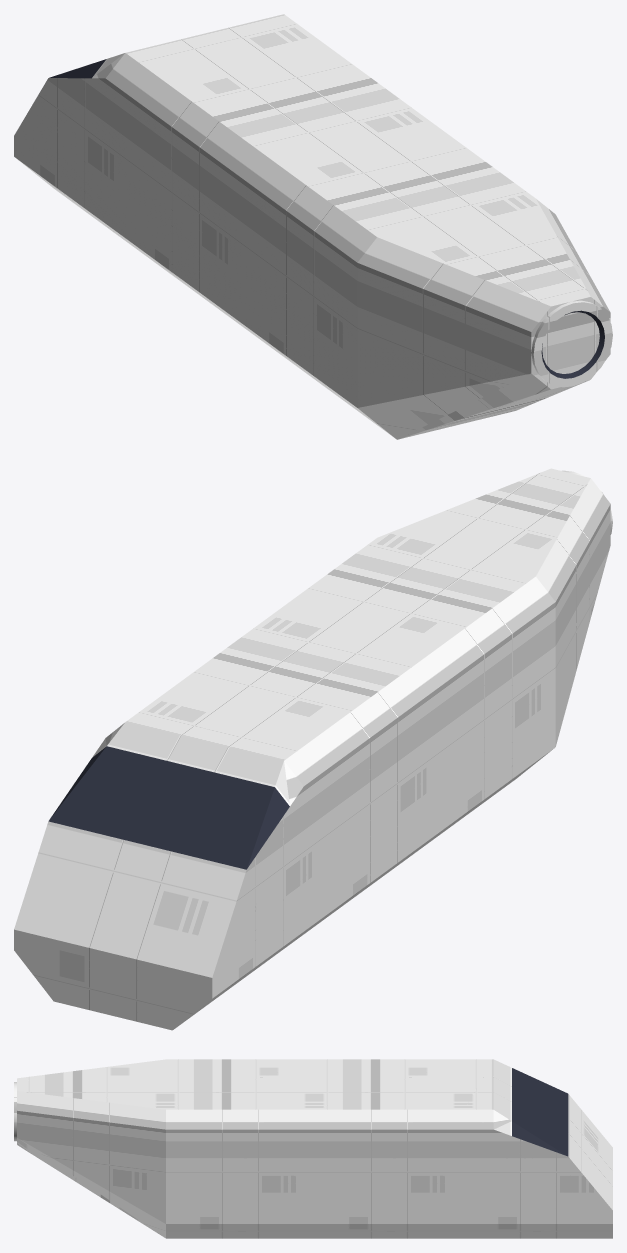
File: submarine.glb
3 views of the same model, one above another, from view 1: azimuth 30°, elevation 25°; view 2: azimuth 150°, elevation 25°; view 3: azimuth 270°, elevation 25° (orthographic). The views are drawn at different scales.
Visible parts, largest first — view 1: mergedBlocks(Clone); view 2: mergedBlocks(Clone); view 3: mergedBlocks(Clone).
Part boxes in pixels (<box>): mergedBlocks(Clone): <box>14,14,612,439</box>; mergedBlocks(Clone): <box>14,468,612,1030</box>; mergedBlocks(Clone): <box>14,1059,612,1238</box>.
Size of the model in its own units: 1 by 1 by 4.02.
Materials: 3 (2 with a texture image).
